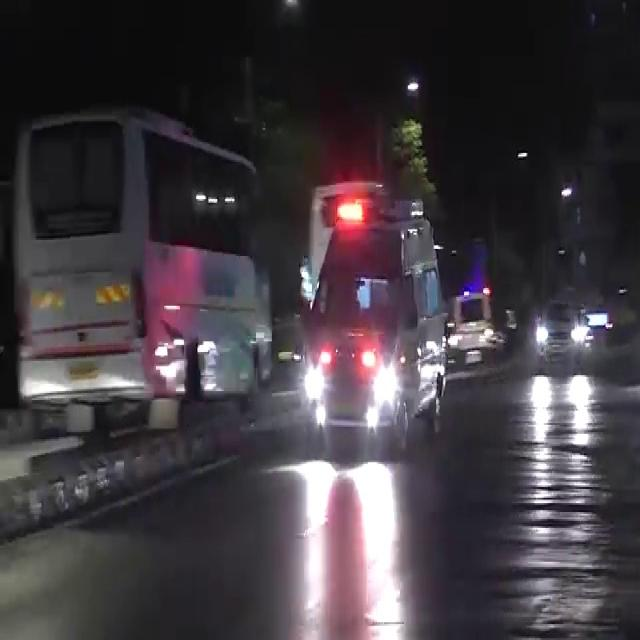ambulance: (315, 202, 448, 413)
